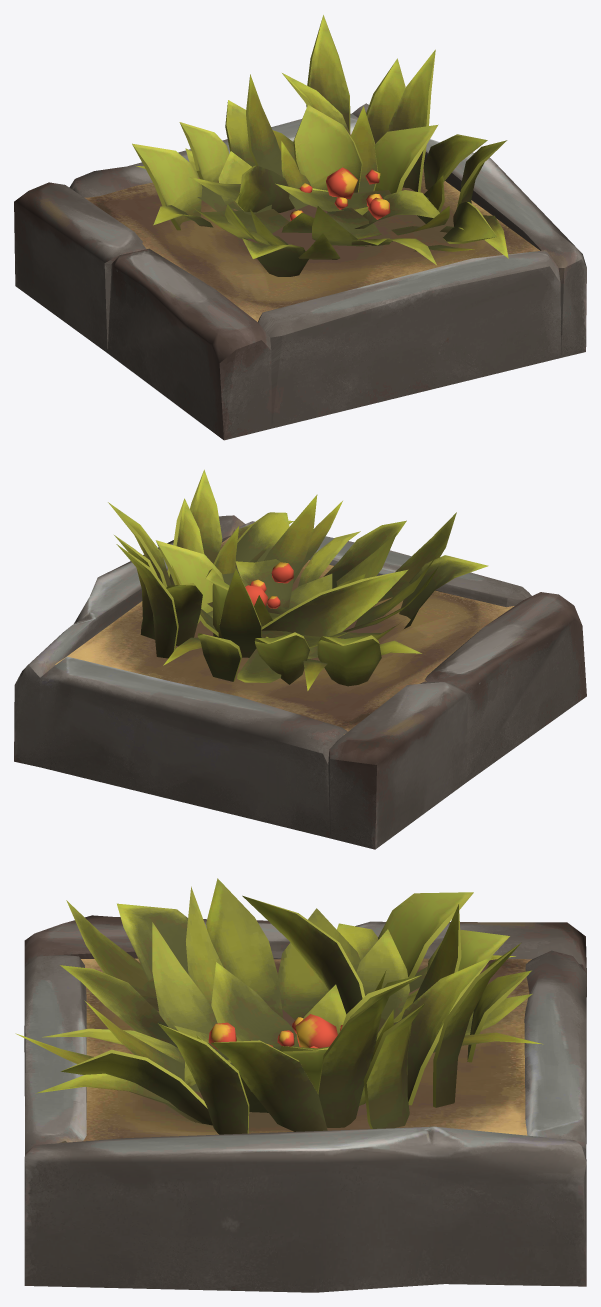
Rendered from S_survive_bush.fbx.
3 views of the same model, one above another, from view 1: azimuth 30°, elevation 25°; view 2: azimuth 150°, elevation 25°; view 3: azimuth 270°, elevation 25° (orthographic). The views are drawn at different scales.
Visible parts, largest first — view 1: S_survive_bush; view 2: S_survive_bush; view 3: S_survive_bush.
Boxes of the visible parts, x1,y1,x2,y2 form: S_survive_bush: [14, 15, 586, 440]; S_survive_bush: [14, 469, 586, 849]; S_survive_bush: [15, 878, 586, 1292].
Bounding box in the file's own units: 1.06 × 0.577 × 1.02.
1 material, 1 textured.
